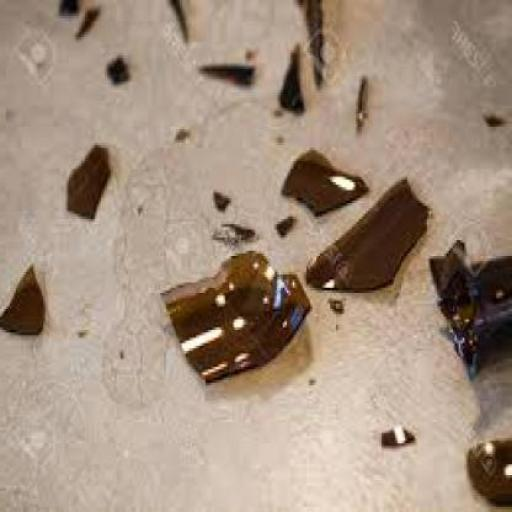glass: (164, 245, 314, 383), (311, 174, 435, 288), (433, 232, 511, 370), (283, 148, 369, 214), (67, 140, 111, 216), (295, 0, 330, 90), (2, 261, 47, 330), (470, 435, 511, 502), (282, 42, 308, 111), (202, 58, 261, 82), (79, 0, 103, 43), (170, 0, 192, 43), (215, 217, 261, 235), (108, 55, 133, 85), (360, 74, 374, 124), (384, 422, 416, 443), (482, 108, 508, 127), (279, 211, 298, 235), (214, 187, 230, 212), (57, 0, 81, 16), (246, 39, 262, 58), (328, 293, 344, 309), (178, 122, 191, 132), (277, 106, 287, 113)
